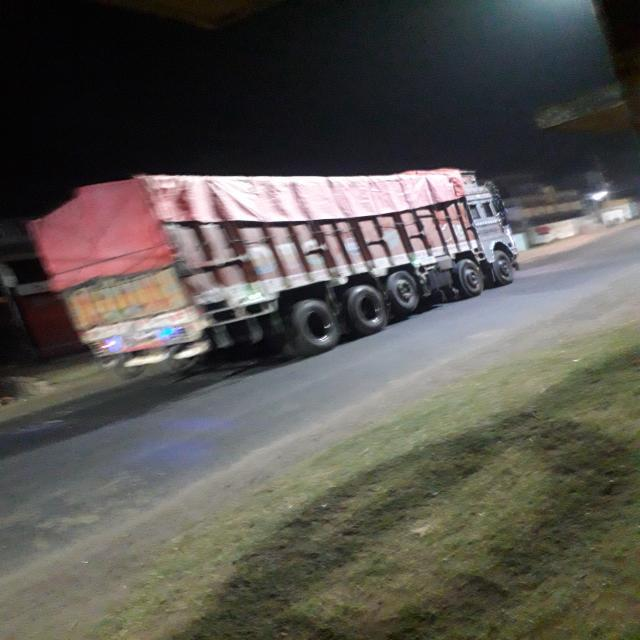truck_back: (24, 162, 527, 386)
